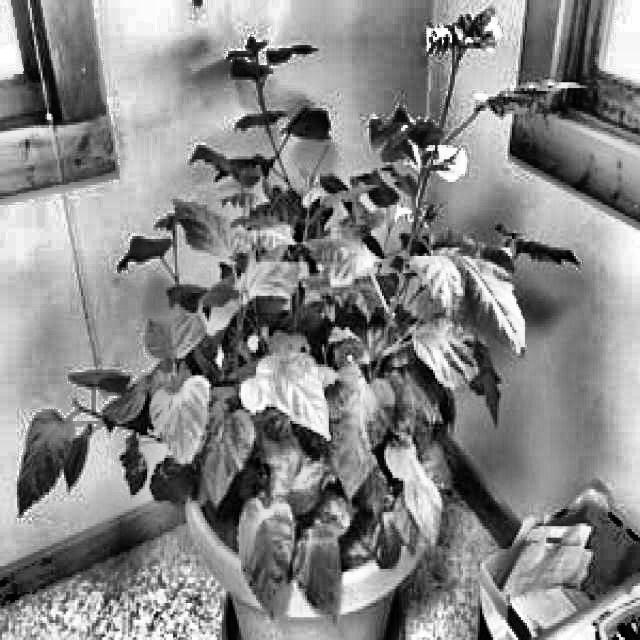plants: (85, 173, 448, 638)
